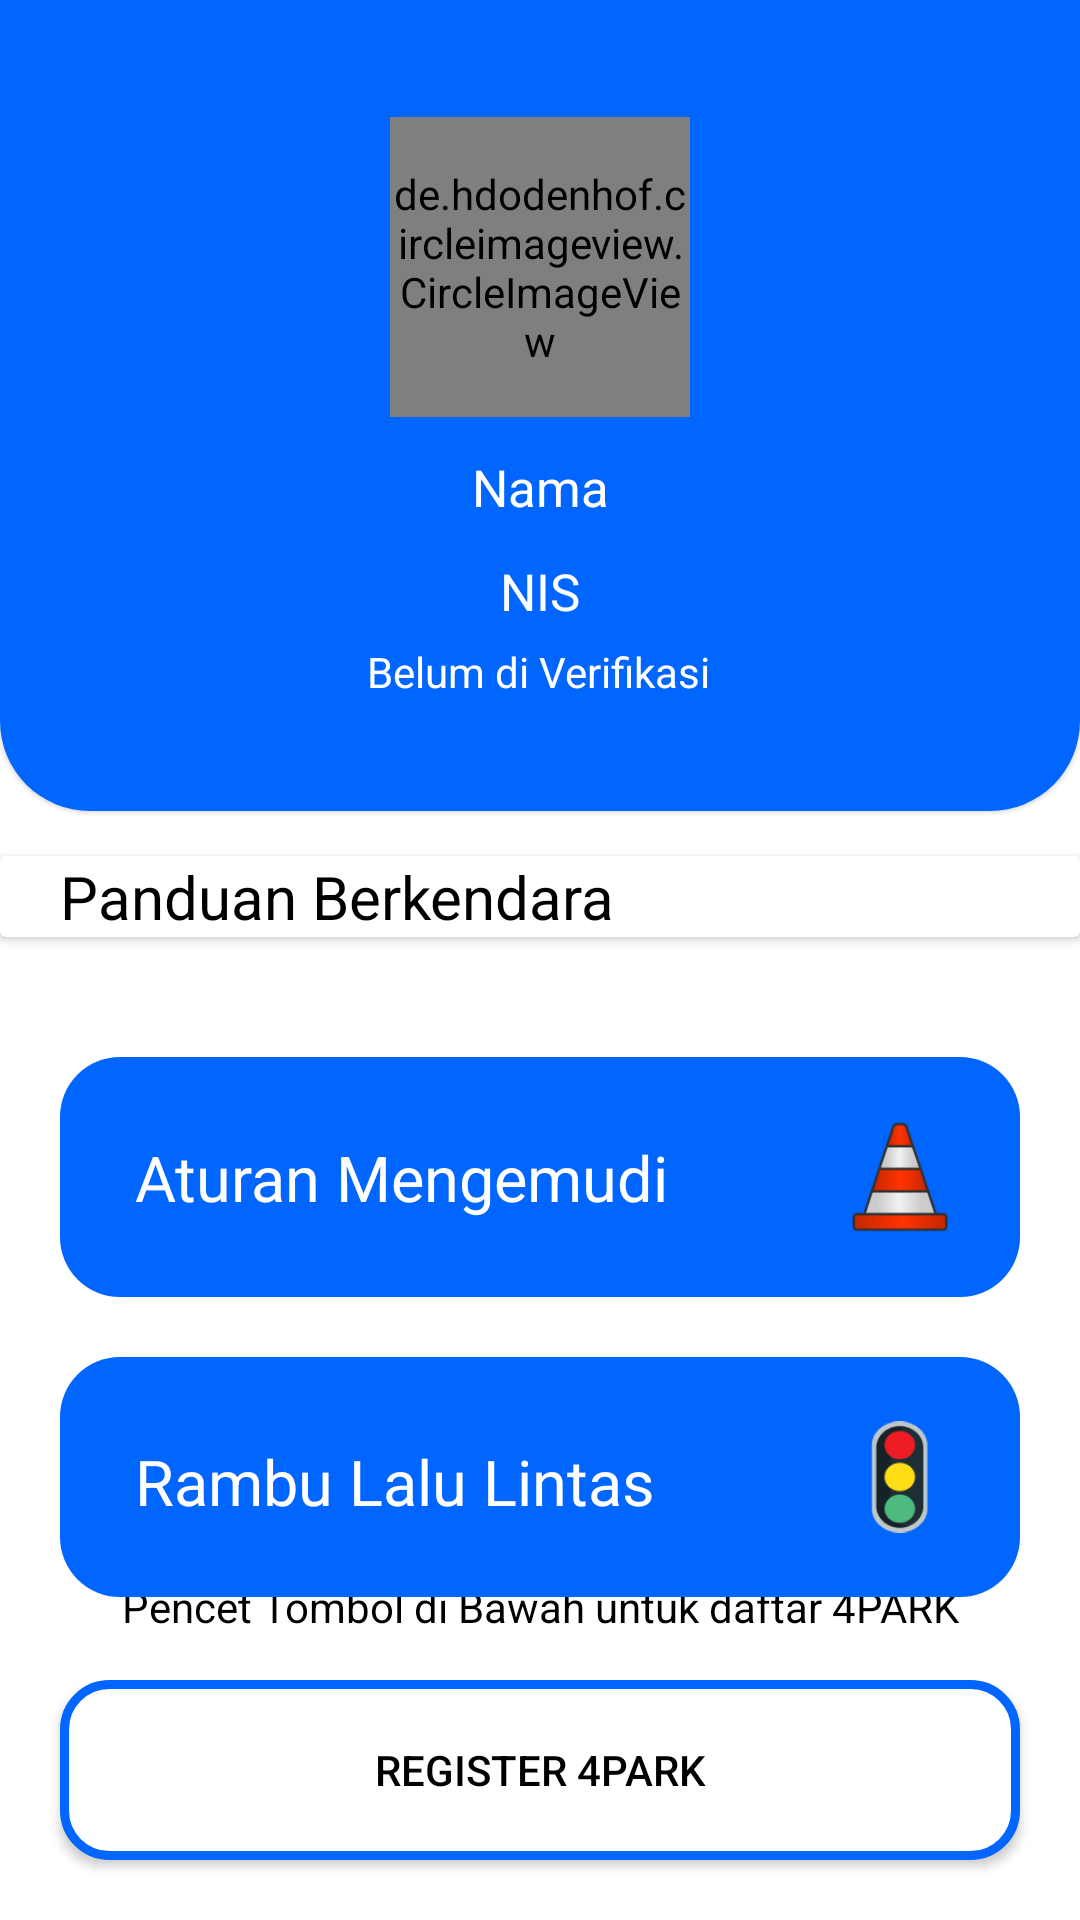

Locate icon controls on the screen. Image size 1080px x 1920px, boxes as [left=x1, top=y1, right=x2, bottom=y2].
traffic: [left=871, top=1421, right=928, bottom=1533]
